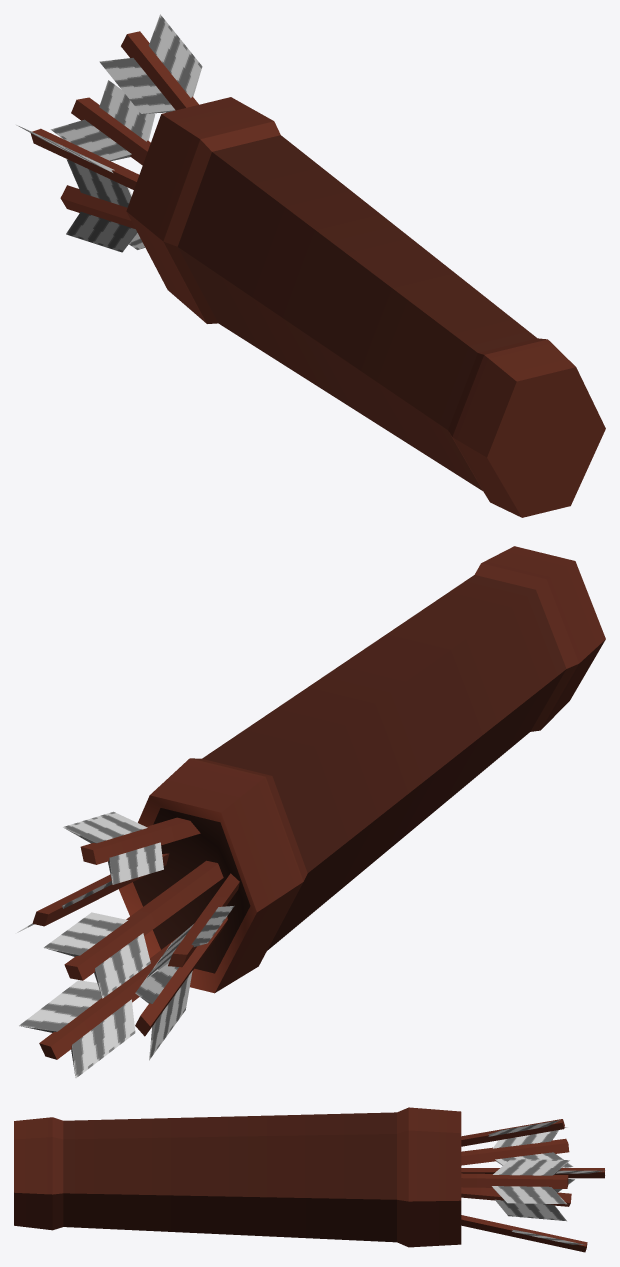
Rendered from ArrowQuiverBasic.glb.
The picture shows the model from 3 angles, top to bottom: view 1: azimuth 30°, elevation 25°; view 2: azimuth 150°, elevation 25°; view 3: azimuth 270°, elevation 25°; orthographic projection. The views are drawn at different scales.
Parts seen in each view (by area): view 1: ArrowQuiverBasic; view 2: ArrowQuiverBasic; view 3: ArrowQuiverBasic.
Part boxes in pixels (x1,y1,x2,y2): ArrowQuiverBasic: [16, 14, 605, 517]; ArrowQuiverBasic: [17, 546, 605, 1078]; ArrowQuiverBasic: [14, 1107, 605, 1252].
Bounding box in the file's own units: 0.1857 × 0.2106 × 0.8011.
Materials: 1 (1 with a texture image).
